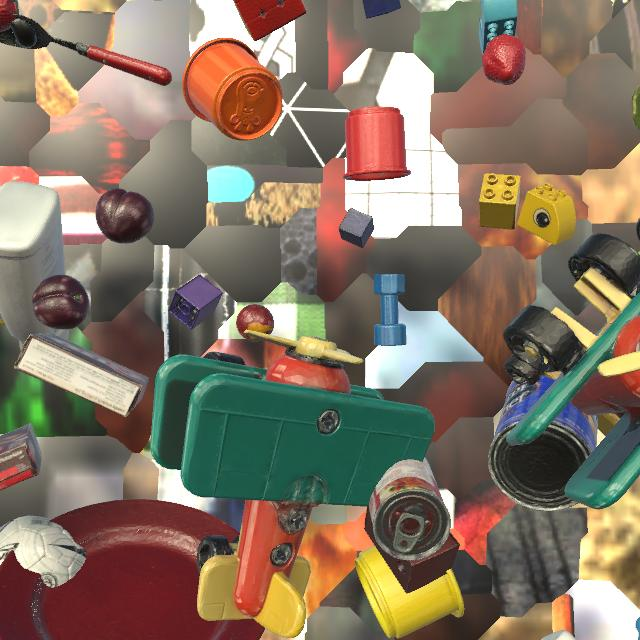ycb_002_master_chef_can: (488, 376, 598, 511)
ycb_005_tomato_soup_can: (369, 457, 451, 561)
ycb_007_tuna_fish_can: (636, 218, 640, 241)
ycb_008_pudding_box: (14, 333, 149, 417), (0, 423, 42, 491)
ycb_010_potted_meat_can: (631, 85, 640, 131)
ycb_012_strawberry: (482, 34, 526, 85), (0, 0, 19, 32)
ycb_018_plum: (95, 188, 155, 244), (32, 275, 90, 330)
